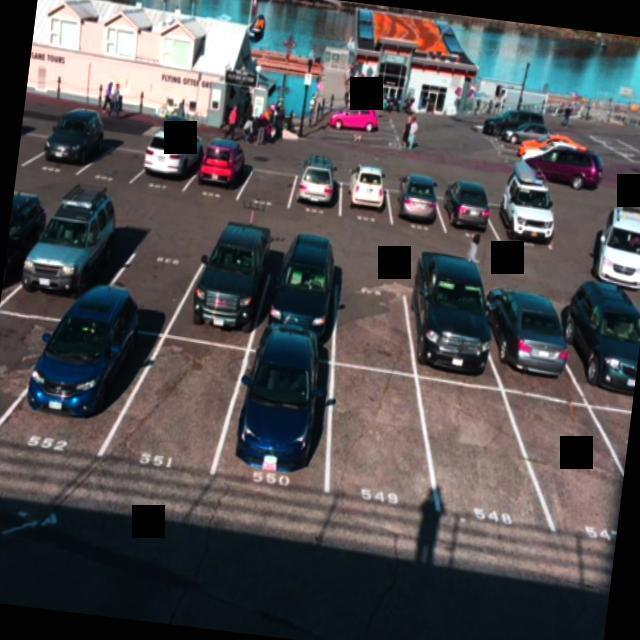space-empty: (397, 372, 543, 539), (496, 381, 632, 553), (314, 363, 445, 516), (122, 332, 250, 482), (92, 212, 216, 330), (312, 262, 432, 375), (0, 289, 57, 449), (82, 124, 152, 190), (232, 145, 299, 213), (14, 102, 58, 180)
space-occupied: (23, 294, 148, 459), (220, 339, 351, 494), (16, 184, 130, 312), (390, 273, 504, 386), (248, 238, 354, 352), (478, 289, 589, 396), (183, 224, 283, 338), (556, 295, 638, 407), (480, 180, 561, 267), (0, 188, 51, 319), (36, 104, 110, 183), (133, 131, 203, 201), (434, 176, 501, 248), (381, 169, 448, 240), (186, 135, 250, 205), (332, 160, 394, 231), (282, 156, 345, 222)
